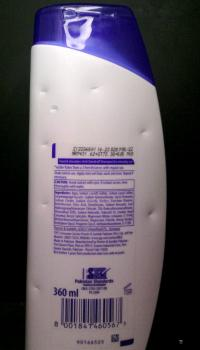dent_marginal: (85, 82, 109, 96), (36, 86, 52, 99), (46, 103, 62, 115), (38, 199, 52, 211), (40, 140, 52, 152), (146, 207, 156, 221), (32, 284, 44, 294), (139, 127, 149, 138)
